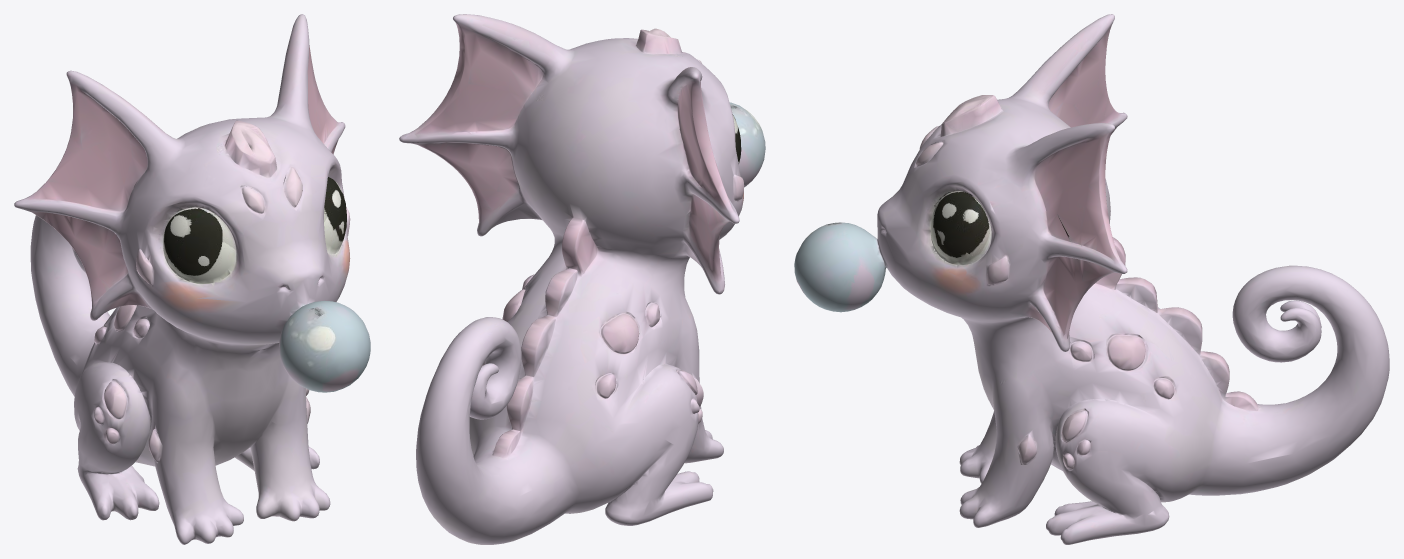
The model's file is opalisk.glb.
3 views of the same model, side by side, from view 1: azimuth 30°, elevation 25°; view 2: azimuth 150°, elevation 25°; view 3: azimuth 270°, elevation 25° (orthographic). The views are drawn at different scales.
Parts seen in each view (by area): view 1: Mesh_0; view 2: Mesh_0; view 3: Mesh_0.
Boxes of the visible parts, bbox=[...] form: Mesh_0: bbox=[14, 14, 370, 544]; Mesh_0: bbox=[399, 14, 765, 544]; Mesh_0: bbox=[794, 14, 1389, 544].
Size of the model in its own units: 1.19 by 1.5 by 1.9.
1 material, 1 textured.
